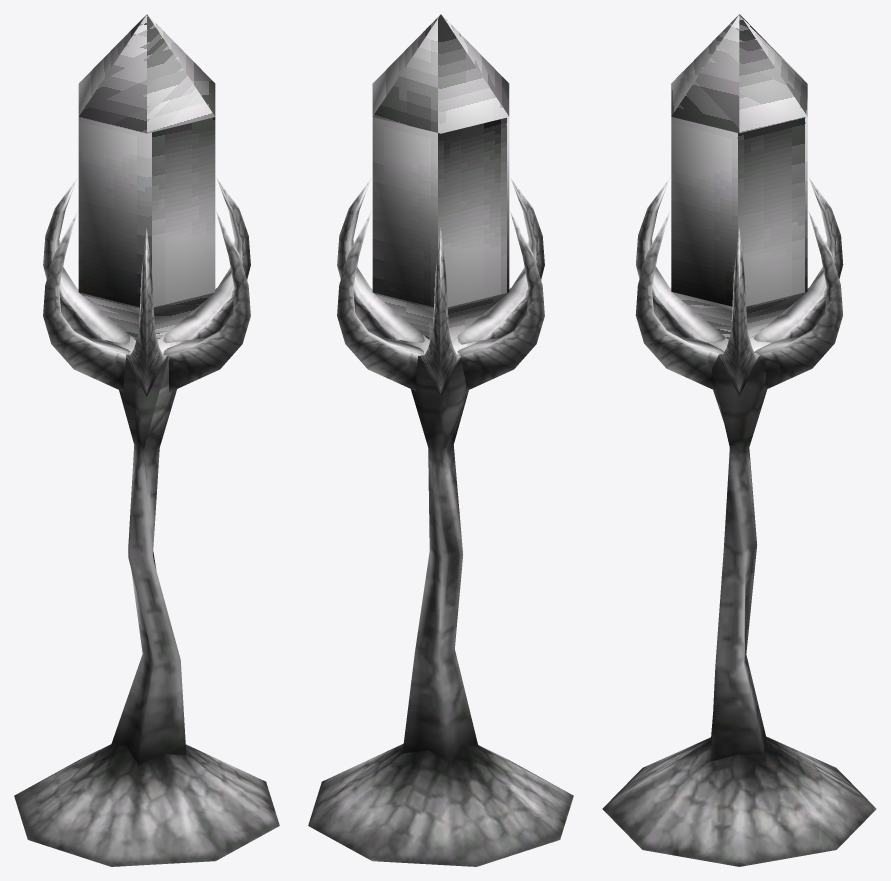
File: INST_TROLLHOLE_CRYSTALHOLDER.fbx
3 views of the same model, side by side, from view 1: azimuth 30°, elevation 25°; view 2: azimuth 150°, elevation 25°; view 3: azimuth 270°, elevation 25° (orthographic).
Visible parts, largest first — view 1: INST_TROLLHOLE_CRYSTALHOLDER; view 2: INST_TROLLHOLE_CRYSTALHOLDER; view 3: INST_TROLLHOLE_CRYSTALHOLDER.
Boxes of the visible parts, x1,y1,x2,y2 form: INST_TROLLHOLE_CRYSTALHOLDER: (14, 14, 279, 866); INST_TROLLHOLE_CRYSTALHOLDER: (308, 14, 573, 866); INST_TROLLHOLE_CRYSTALHOLDER: (602, 14, 876, 866).
Size of the model in its own units: 4452 by 14222 by 4452.
2 materials, 2 textured.
